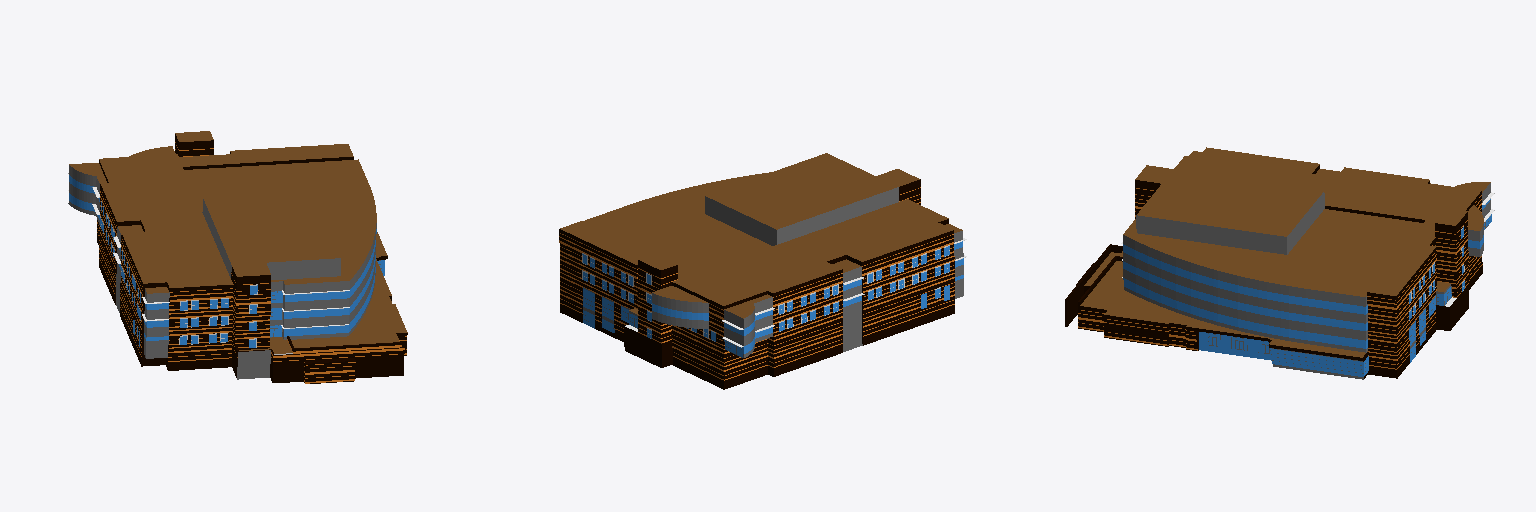
The model's file is Ite.obj.
3 views of the same model, side by side, from view 1: azimuth 30°, elevation 25°; view 2: azimuth 150°, elevation 25°; view 3: azimuth 270°, elevation 25° (orthographic).
Visible parts, largest first — view 1: SM_Ite_Bldg, SM_Ite_Wndws; view 2: SM_Ite_Bldg, SM_Ite_Wndws; view 3: SM_Ite_Bldg, SM_Ite_Wndws.
Boxes of the visible parts, x1,y1,x2,y2 form: SM_Ite_Bldg: [97, 131, 407, 383]; SM_Ite_Wndws: [68, 146, 384, 358]; SM_Ite_Bldg: [559, 153, 954, 389]; SM_Ite_Wndws: [582, 172, 966, 357]; SM_Ite_Bldg: [1065, 147, 1482, 379]; SM_Ite_Wndws: [1119, 151, 1494, 376].
Size of the model in its own units: 7375 by 2316 by 8846.